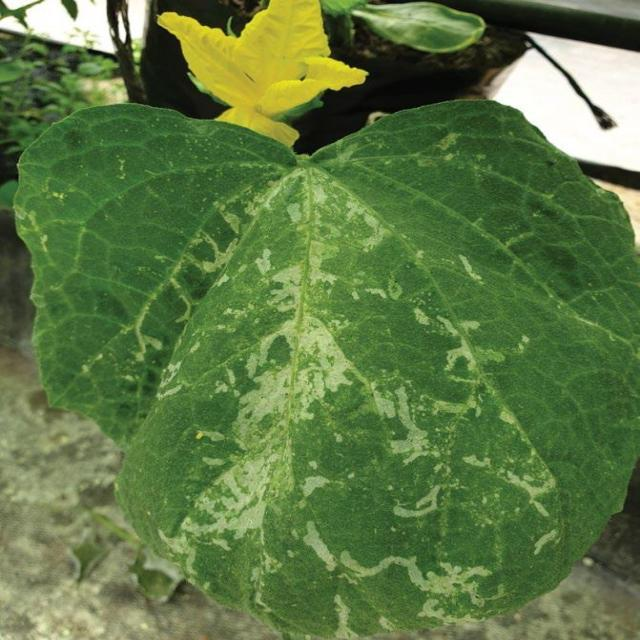Serpentine leafminer: (160, 180, 357, 590), (366, 237, 559, 623), (309, 598, 374, 640), (110, 253, 114, 270)
